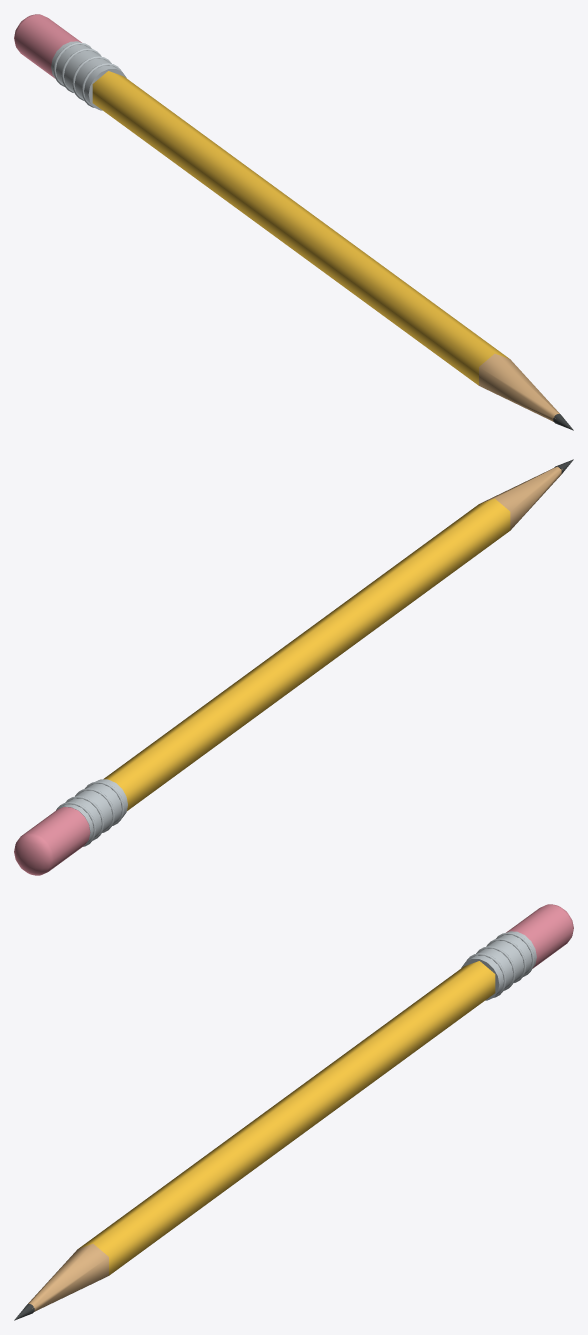
File: pencil.glb
3 views of the same model, one above another, from view 1: azimuth 30°, elevation 25°; view 2: azimuth 150°, elevation 25°; view 3: azimuth 330°, elevation 25° (orthographic).
Visible parts, largest first — view 1: Hexagonal yellow shaft, Sharpened cedar tip, Pink eraser, Metal eraser ferrule; view 2: Hexagonal yellow shaft, Pink eraser, Metal eraser ferrule, Sharpened cedar tip, Rounded eraser end; view 3: Hexagonal yellow shaft, Sharpened cedar tip, Pink eraser, Metal eraser ferrule.
Boxes of the visible parts, box(x1,y1,x2,y2) form: Hexagonal yellow shaft: box(92, 71, 509, 385); Sharpened cedar tip: box(479, 353, 559, 421); Pink eraser: box(15, 15, 81, 78); Metal eraser ferrule: box(51, 41, 126, 110); Hexagonal yellow shaft: box(103, 498, 510, 810); Pink eraser: box(22, 807, 90, 871); Metal eraser ferrule: box(57, 779, 127, 845); Sharpened cedar tip: box(481, 466, 562, 530); Rounded eraser end: box(14, 833, 53, 875); Hexagonal yellow shaft: box(78, 961, 495, 1275); Sharpened cedar tip: box(28, 1243, 108, 1311); Pink eraser: box(506, 905, 572, 968); Metal eraser ferrule: box(461, 931, 536, 1000).
Bounding box in the file's own units: 0.0091 × 0.0091 × 0.2035.
